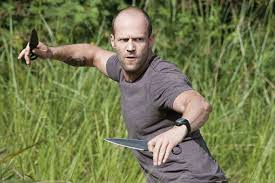knife: (103, 136, 183, 155), (28, 28, 40, 61)
